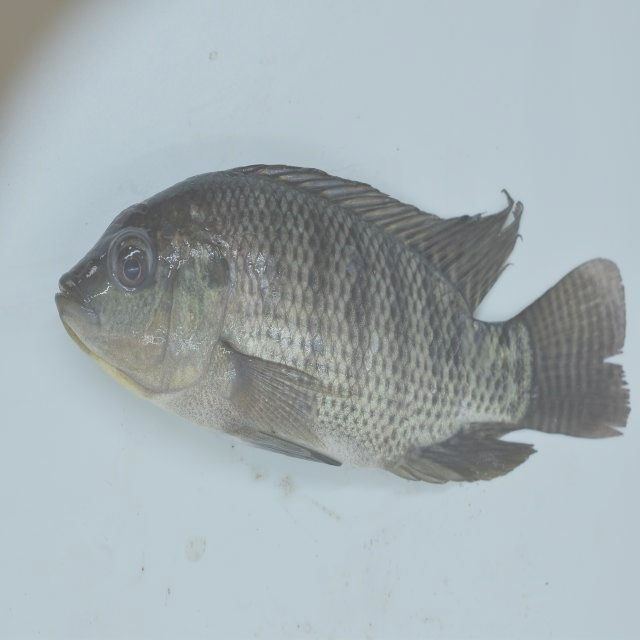Columnaris Disease: (42, 141, 630, 507)
